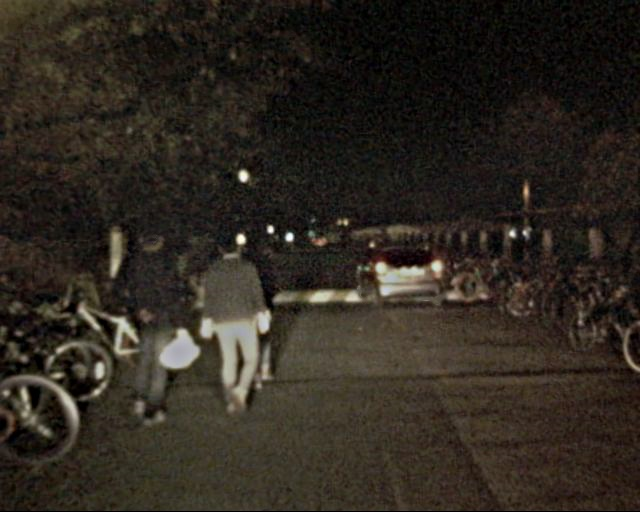person: (104, 218, 191, 428), (194, 237, 269, 419), (222, 228, 284, 374), (177, 227, 218, 325)
